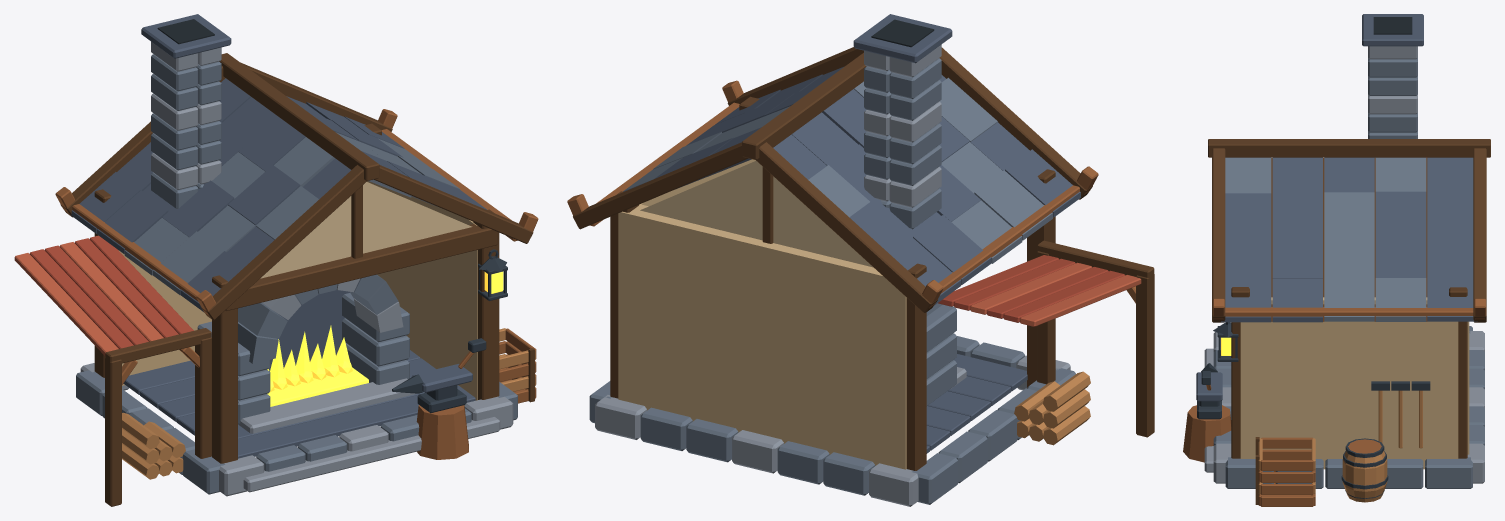
File: Forge.glb
3 renders of one model, left to right at view 1: azimuth 30°, elevation 25°; view 2: azimuth 150°, elevation 25°; view 3: azimuth 270°, elevation 25°, orthographic. The views are drawn at different scales.
Parts seen in each view (by area): view 1: Right workshop wall, Plaster gable, Workshop front lintel, Ridge cap, Workshop post, Bargeboard, Workshop paving floor, Workshop entrance step, Hearth lip, Hearth rear, Workshop post.002, Bargeboard.002 (+68 smaller); view 2: Rear masonry wall, Plaster gable.001, Bargeboard.001, Workshop post.001, Ridge cap, Bargeboard.003, Bargeboard, Canopy support, Overlapping roof tile.016, Overlapping roof tile.018, Chimney cap, Overlapping roof tile.015 (+57 smaller); view 3: Right workshop wall, Ridge cap, Overlapping roof tile.031, Overlapping roof tile.033, Eave fascia.001, Bargeboard.002, Bargeboard.003, Overlapping roof tile.037, Overlapping roof tile.028, Overlapping roof tile.027, Overlapping roof tile.026, Overlapping roof tile.032 (+43 smaller).
Boxes of the visible parts, x1,y1,x2,y2 form: Right workshop wall: [367, 181, 477, 400]; Plaster gable: [260, 182, 472, 278]; Workshop front lintel: [225, 224, 498, 310]; Ridge cap: [219, 53, 379, 180]; Workshop post: [212, 275, 237, 463]; Bargeboard: [201, 165, 366, 320]; Workshop paving floor: [238, 385, 475, 458]; Workshop entrance step: [243, 417, 500, 492]; Hearth lip: [238, 378, 416, 433]; Hearth rear: [238, 290, 349, 371]; Workshop post.002: [473, 209, 499, 399]; Bargeboard.002: [374, 165, 533, 243]; Rear masonry wall: [618, 204, 906, 469]; Plaster gable.001: [640, 161, 873, 267]; Bargeboard.001: [756, 142, 937, 312]; Workshop post.001: [906, 263, 926, 470]; Ridge cap: [742, 53, 866, 159]; Bargeboard.003: [573, 142, 748, 229]; Bargeboard: [939, 47, 1092, 199]; Canopy support: [1136, 274, 1154, 437]; Overlapping roof tile.016: [974, 170, 1052, 240]; Overlapping roof tile.018: [913, 215, 991, 284]; Chimney cap: [853, 14, 952, 63]; Overlapping roof tile.015: [1005, 149, 1080, 217]; Right workshop wall: [1240, 297, 1458, 469]; Ridge cap: [1208, 139, 1490, 157]; Overlapping roof tile.031: [1272, 231, 1322, 278]; Overlapping roof tile.033: [1375, 231, 1426, 277]; Eave fascia.001: [1225, 307, 1473, 321]; Bargeboard.002: [1212, 148, 1225, 322]; Bargeboard.003: [1473, 148, 1486, 322]; Overlapping roof tile.037: [1324, 270, 1374, 321]; Overlapping roof tile.028: [1375, 191, 1426, 230]; Overlapping roof tile.027: [1324, 192, 1374, 231]; Overlapping roof tile.026: [1272, 191, 1322, 230]; Overlapping roof tile.032: [1324, 232, 1374, 270].
Bounding box in the file's own units: 14.87 × 12.61 × 9.9.
